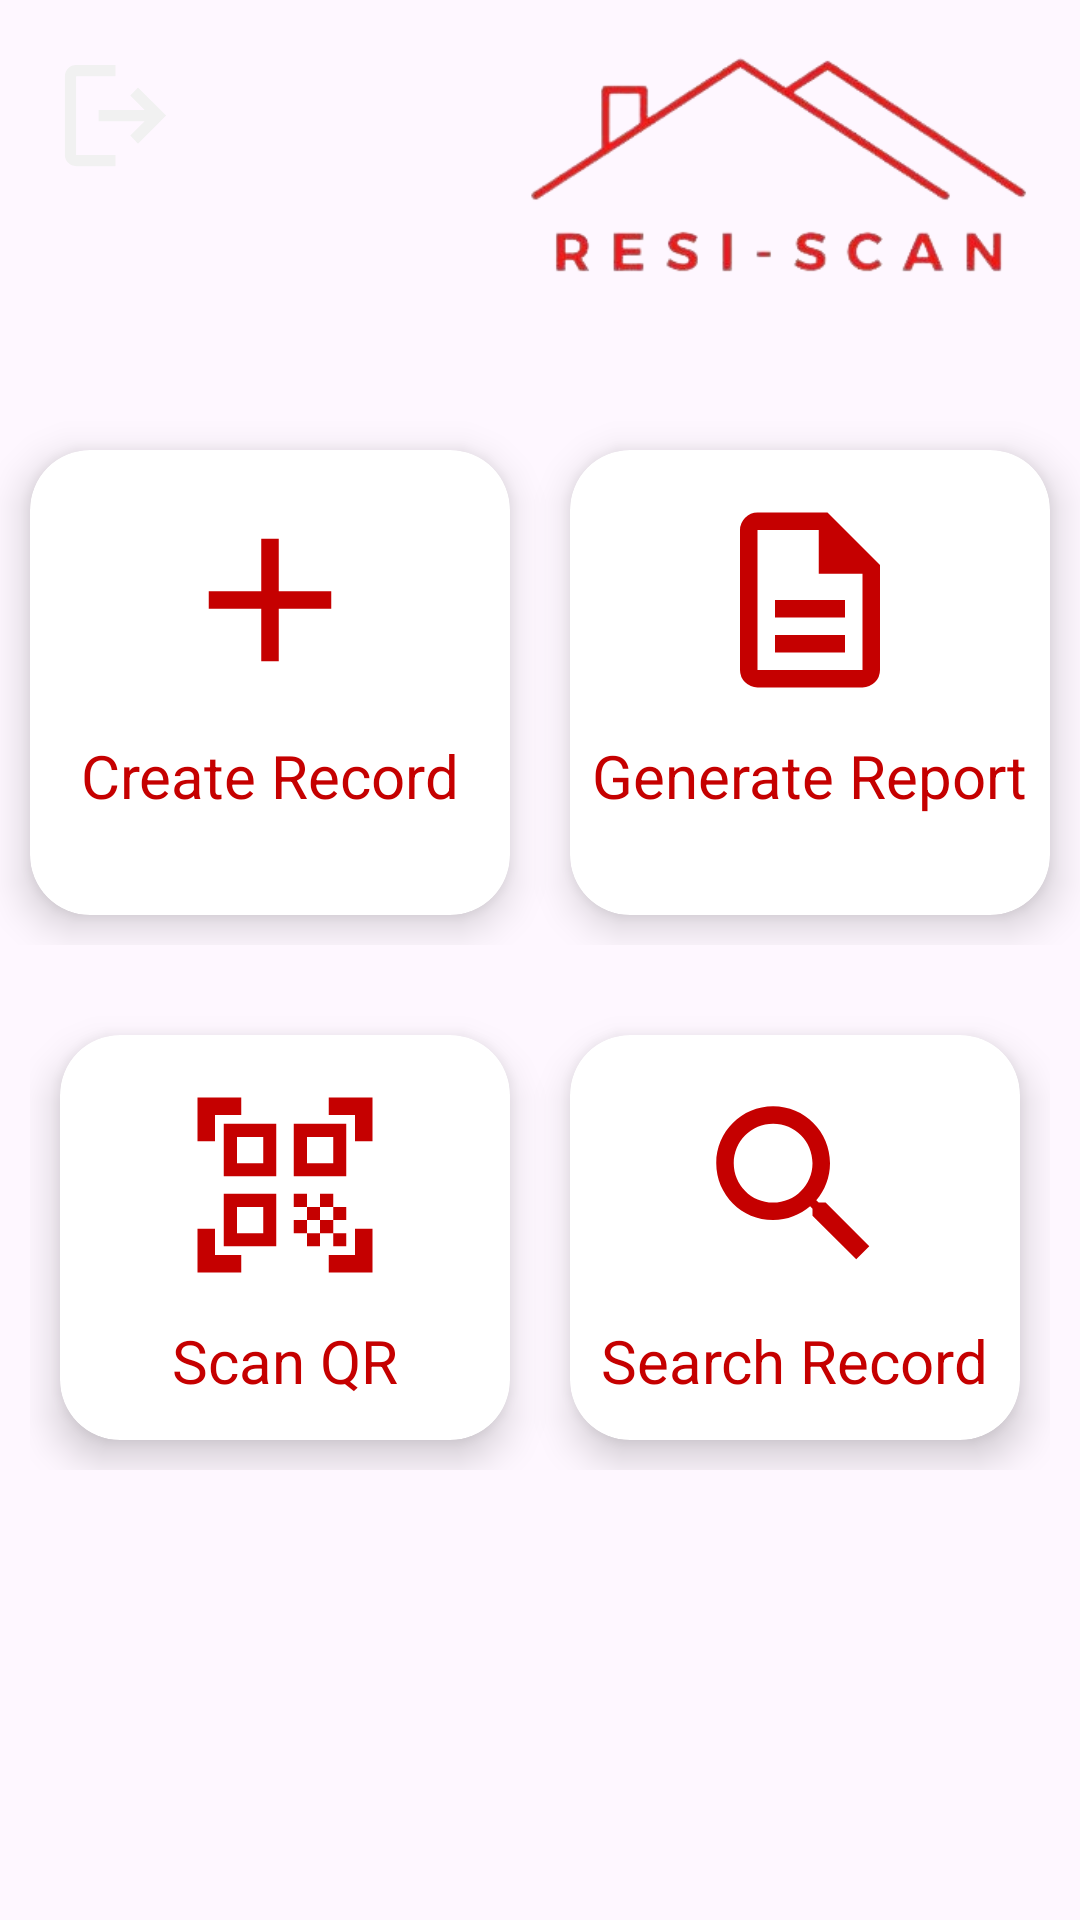

Screen size 1080 x 1920. Icon name, then its box in pixels as (x1, y1, x2, y2):
add: (208, 538, 332, 662)
description: (740, 512, 880, 688)
qr code scanner: (197, 1097, 373, 1273)
